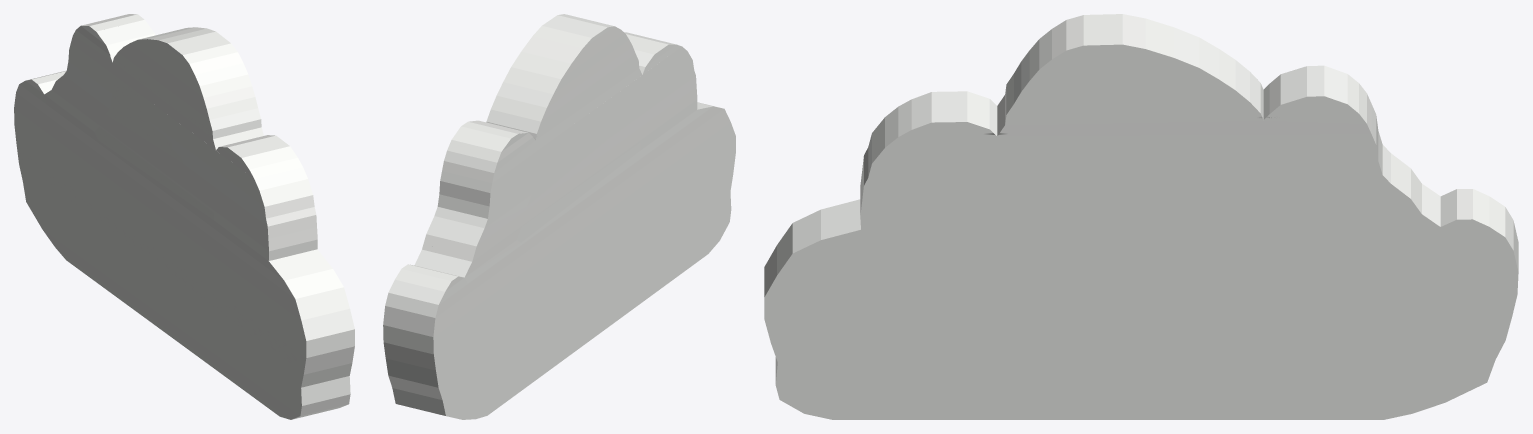
File: Cloud Big T.fbx
The picture shows the model from 3 angles, left to right: view 1: azimuth 30°, elevation 25°; view 2: azimuth 150°, elevation 25°; view 3: azimuth 270°, elevation 25°; orthographic projection. The views are drawn at different scales.
Parts seen in each view (by area): view 1: Plane; view 2: Plane; view 3: Plane.
Boxes of the visible parts, bbox=[...] form: Plane: bbox=[14, 14, 354, 419]; Plane: bbox=[383, 14, 735, 419]; Plane: bbox=[764, 14, 1518, 419].
Bounding box in the file's own units: 54.53 × 309 × 563.
